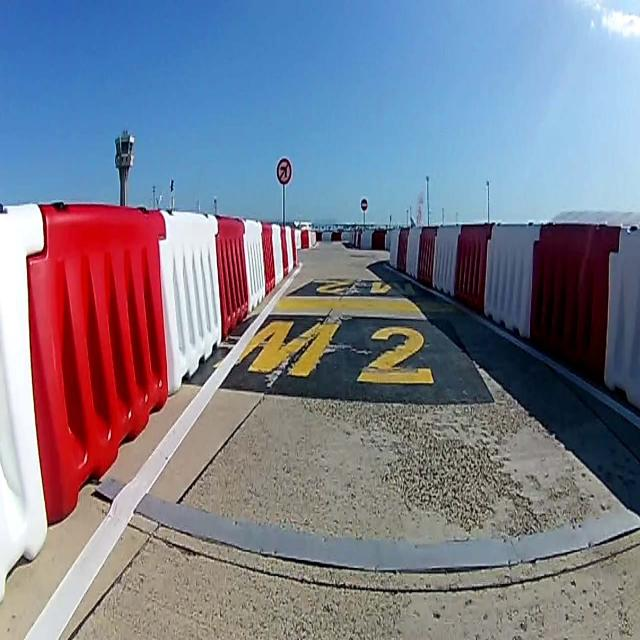girisyok: (360, 198, 368, 212)
soladonulmez: (276, 157, 292, 184)
